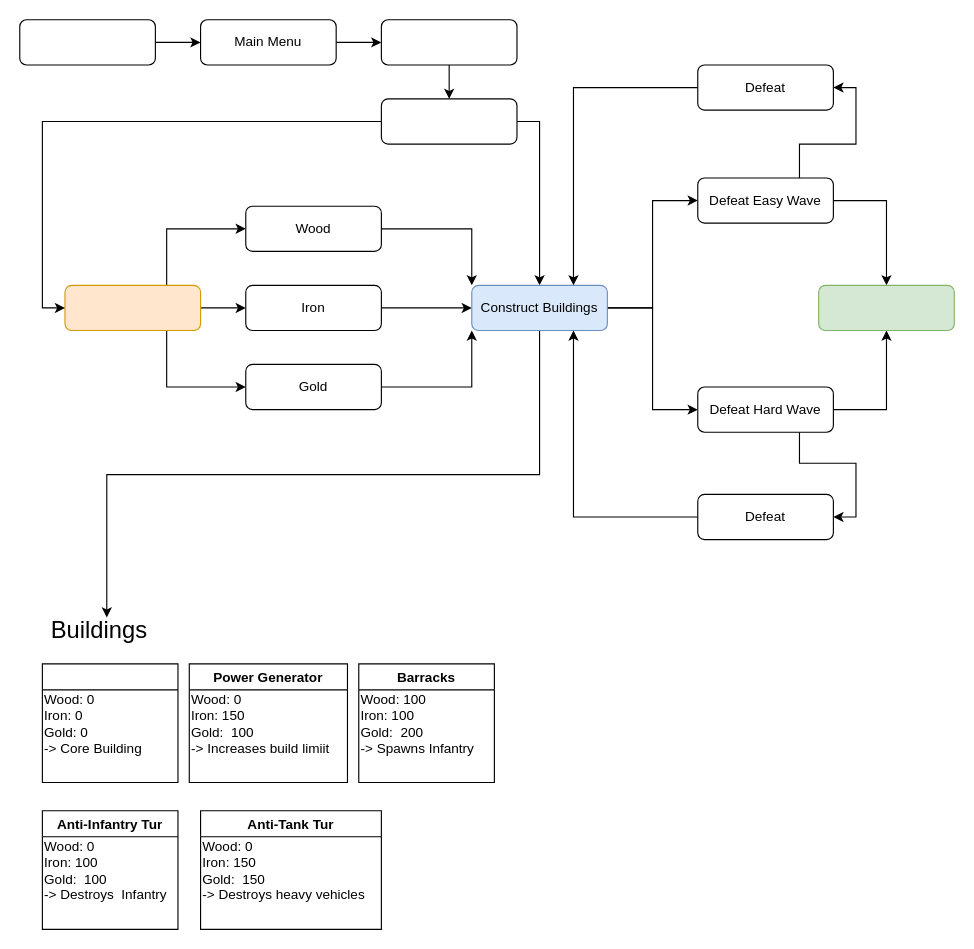
Image size: 974x949. Some labels were removed from this diagram. The shapes that lost their labels are listed below. From the top down, each one's box as (x1, y1, x2, y2) in pixels, then its label:
(19, 19, 155, 65): Splash Screen
(380, 19, 517, 65): Tutorial
(380, 98, 517, 144): Game Start
(64, 284, 201, 331): Gather Resources
(818, 284, 954, 331): Victory
(41, 663, 178, 783): Command Centre
